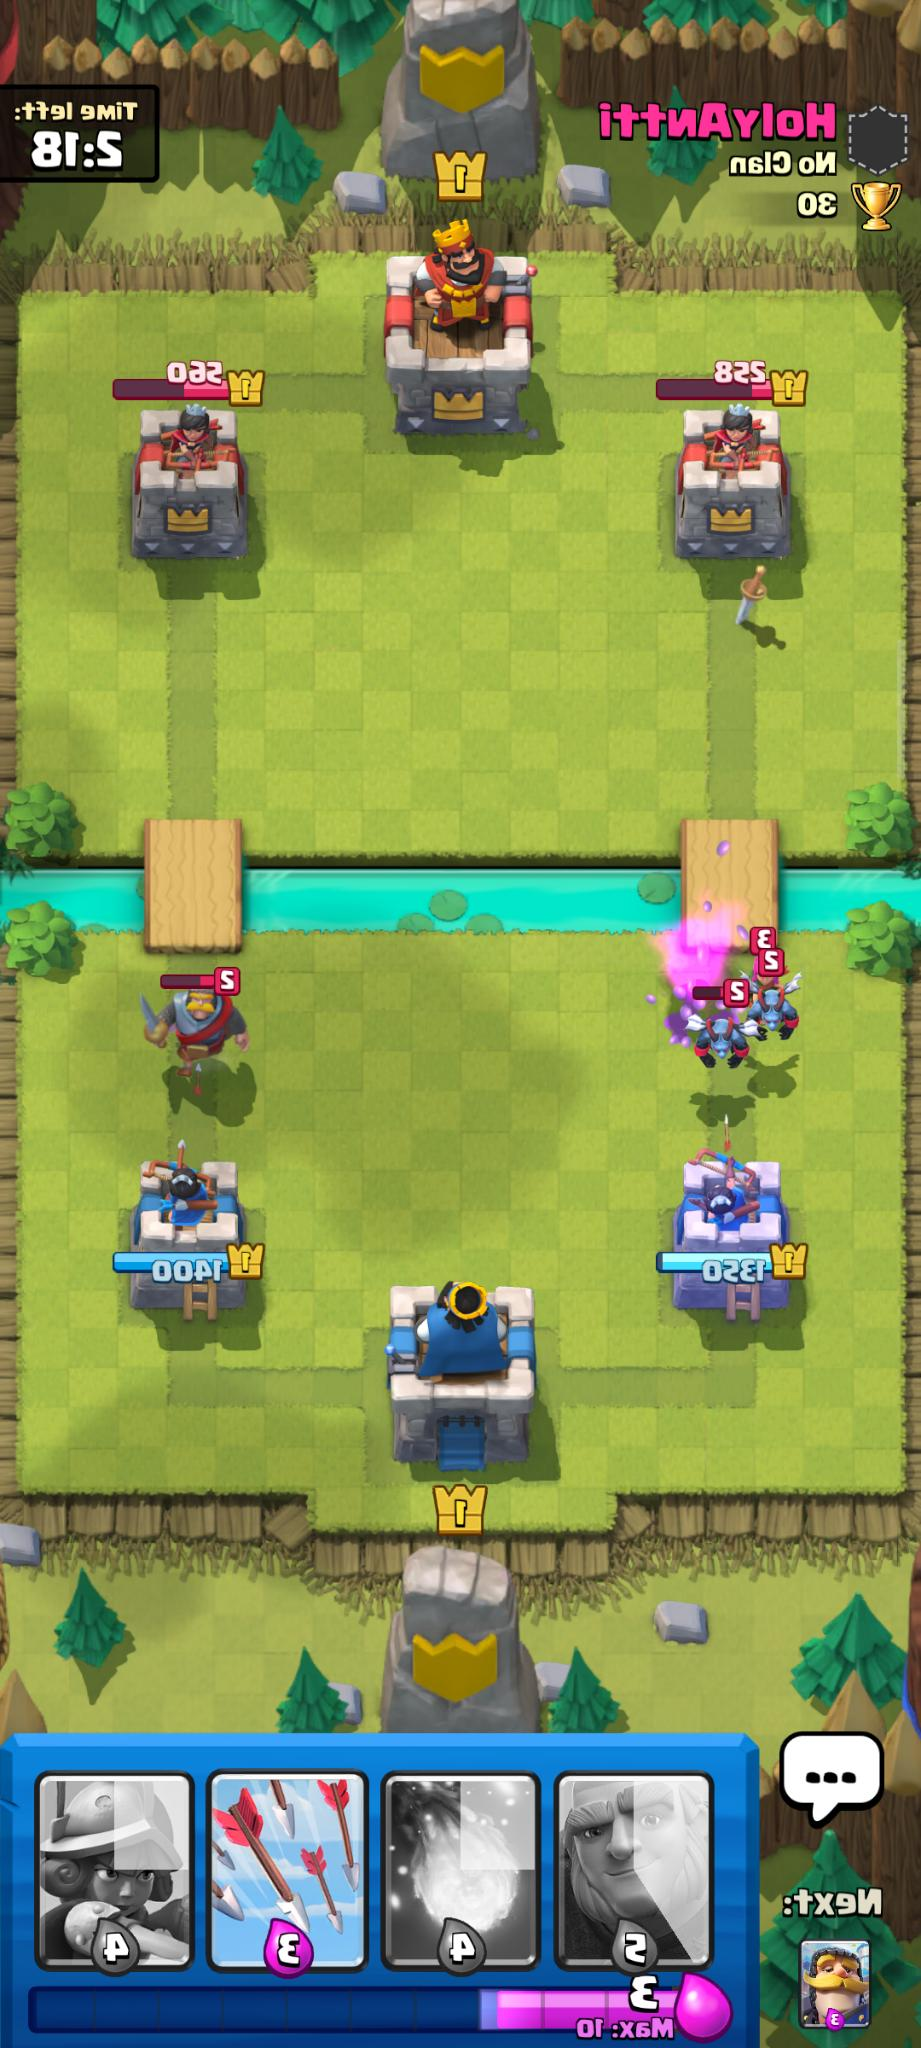chevalier: (152, 987, 248, 1085)
gargouille: (685, 1000, 734, 1072), (749, 984, 796, 1046), (700, 1012, 746, 1074)
